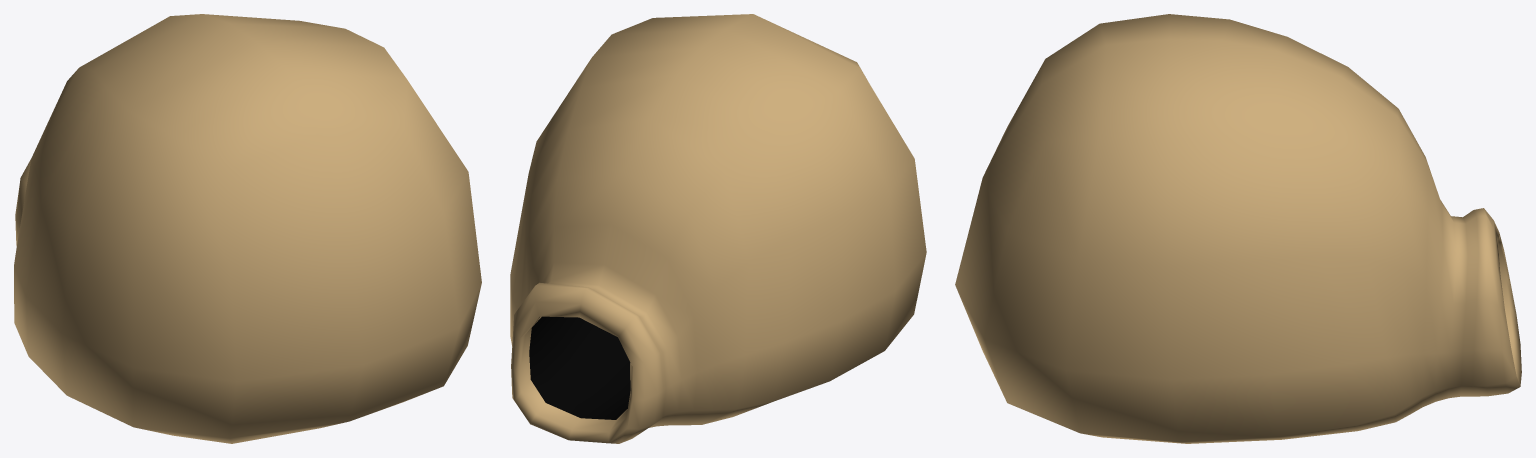
The model's file is Santas Sack.fbx.
3 renders of one model, left to right at view 1: azimuth 30°, elevation 25°; view 2: azimuth 150°, elevation 25°; view 3: azimuth 270°, elevation 25°, orthographic. The views are drawn at different scales.
Visible parts, largest first — view 1: Cube.001; view 2: Cube.001; view 3: Cube.001.
Boxes of the visible parts, left/top/right/bottom form: Cube.001: left=14, top=14, right=481, bottom=443; Cube.001: left=510, top=14, right=926, bottom=443; Cube.001: left=955, top=14, right=1521, bottom=443.
Size of the model in its own units: 732 by 638 by 934.
